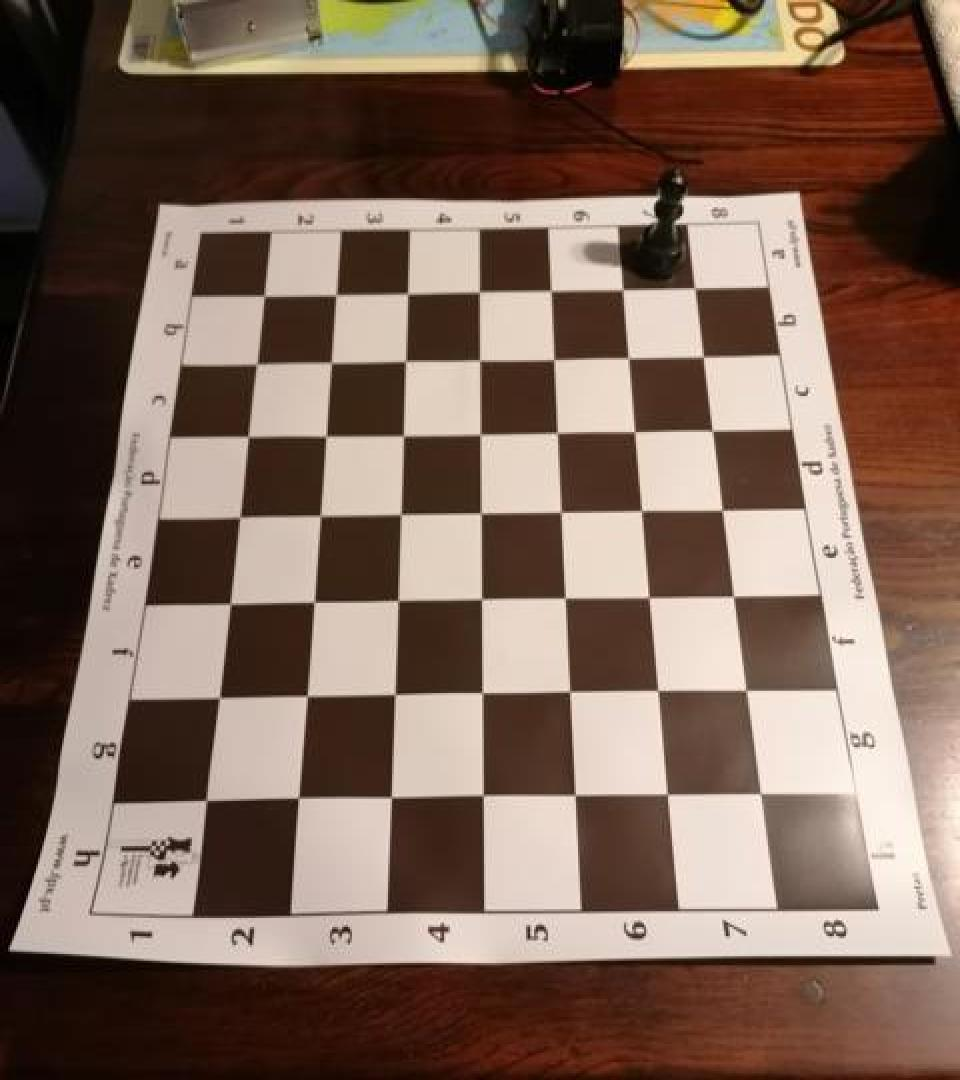xcorner: (208, 579, 240, 616), (675, 268, 707, 304), (603, 269, 635, 305), (530, 270, 562, 306), (458, 271, 490, 307), (386, 274, 418, 310), (315, 274, 347, 310), (244, 276, 276, 312), (685, 335, 717, 371), (609, 336, 641, 372), (534, 338, 566, 374), (459, 338, 491, 374), (384, 340, 416, 376), (310, 341, 342, 377), (236, 342, 268, 378), (695, 408, 727, 444), (616, 410, 648, 446), (537, 410, 569, 446), (459, 412, 491, 448), (381, 413, 413, 449), (304, 414, 336, 450), (227, 415, 259, 451), (706, 488, 738, 524), (623, 490, 655, 526), (541, 490, 573, 526), (460, 490, 492, 526), (379, 492, 411, 528), (298, 493, 330, 529), (218, 493, 250, 529), (717, 575, 749, 611), (631, 576, 663, 612), (546, 576, 578, 612), (460, 577, 492, 613), (376, 577, 408, 613), (291, 578, 323, 614), (731, 670, 763, 706), (640, 670, 672, 706), (550, 672, 582, 708), (461, 672, 493, 708), (372, 672, 404, 708), (284, 673, 316, 709), (196, 673, 228, 709), (745, 775, 777, 811), (650, 775, 682, 811), (556, 775, 588, 811), (462, 775, 494, 811), (369, 776, 401, 812), (276, 776, 308, 812), (184, 776, 216, 812)
